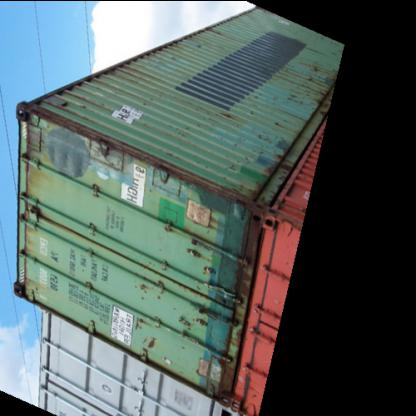Damage: (33, 107, 247, 192), (191, 190, 267, 398), (258, 51, 339, 170), (128, 282, 170, 364)
